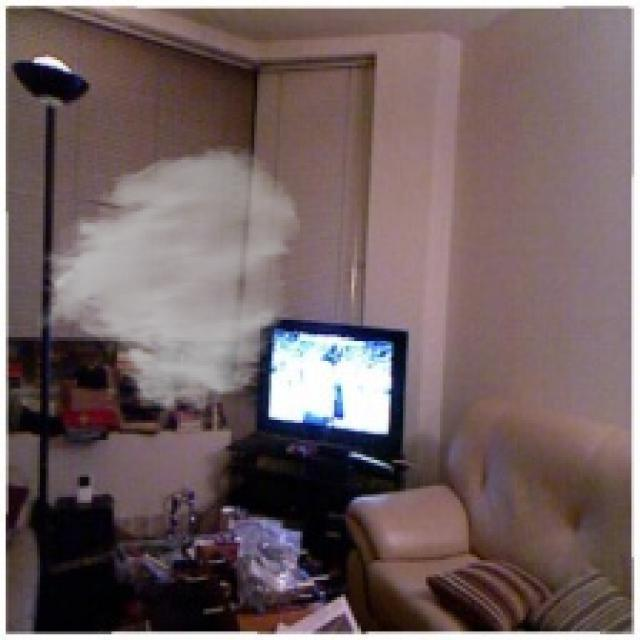Smoke: (34, 143, 303, 414)
